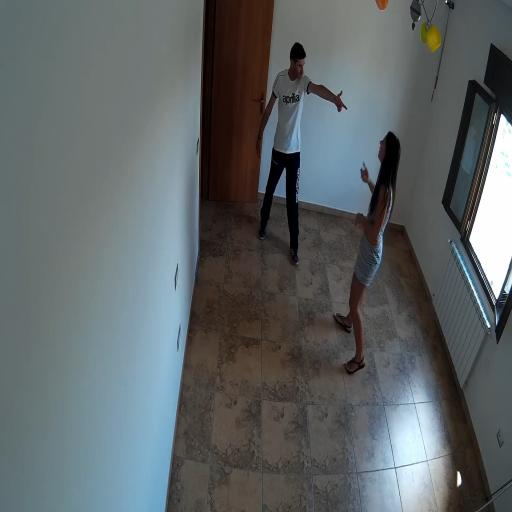nao-violencia: (246, 25, 410, 389)
